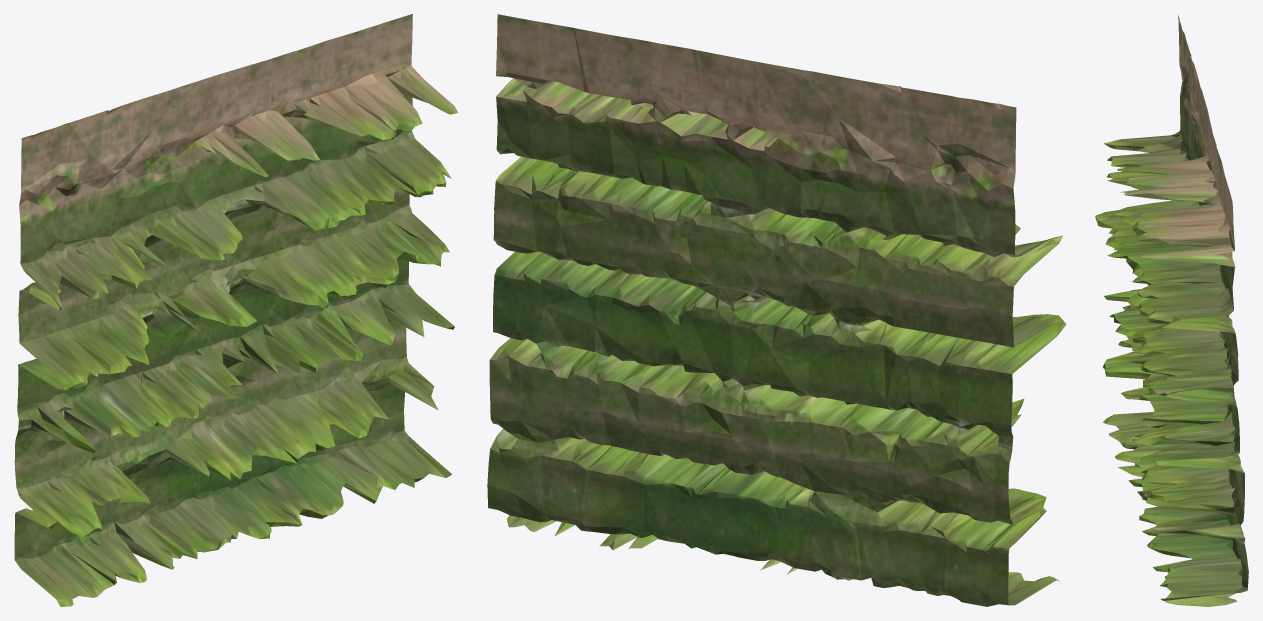
Rendered from map_150_50.obj.
3 renders of one model, left to right at view 1: azimuth 30°, elevation 25°; view 2: azimuth 150°, elevation 25°; view 3: azimuth 270°, elevation 25°, orthographic. The views are drawn at different scales.
Visible parts, largest first — view 1: grp1; view 2: grp1; view 3: grp1.
Boxes of the visible parts, <box> form: grp1: <box>14,14,458,606</box>; grp1: <box>487,14,1066,606</box>; grp1: <box>1095,15,1248,606</box>.
Size of the model in its own units: 10 by 10 by 3.45.
Materials: 1 (1 with a texture image).
